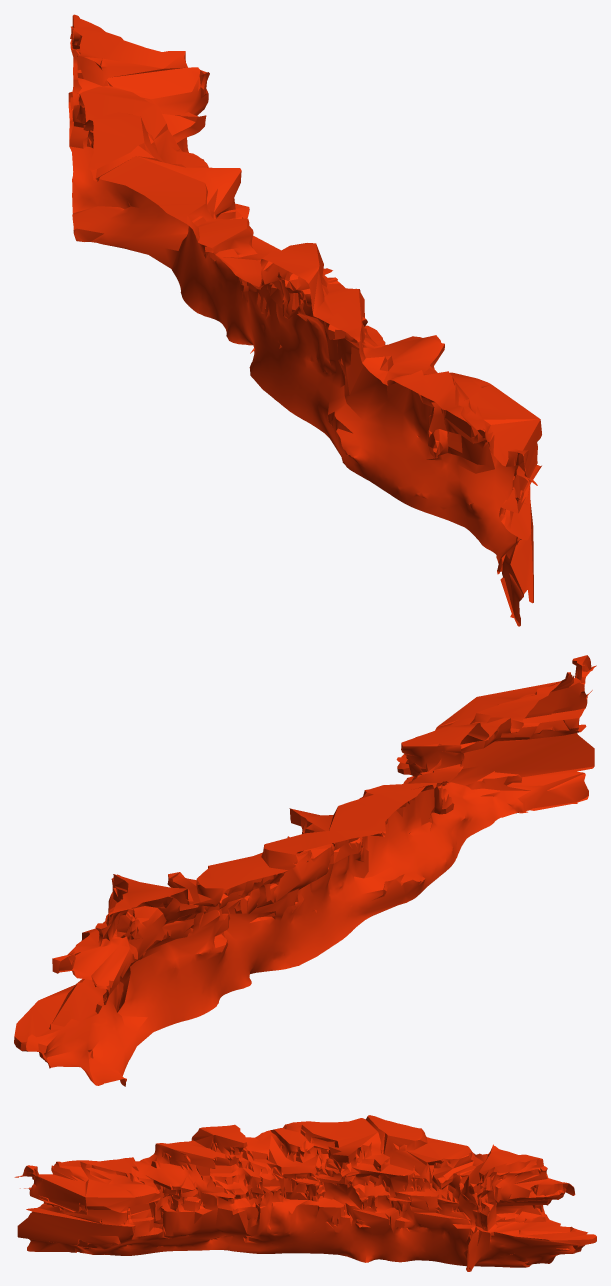
The model's file is canyon_rock_wall_06.fbx.
3 views of the same model, one above another, from view 1: azimuth 30°, elevation 25°; view 2: azimuth 150°, elevation 25°; view 3: azimuth 270°, elevation 25° (orthographic). The views are drawn at different scales.
Visible parts, largest first — view 1: Circle.015; view 2: Circle.015; view 3: Circle.015.
Part boxes in pixels (x1,y1,x2,y2): Circle.015: (68,14,541,626); Circle.015: (14,655,596,1086); Circle.015: (14,1115,596,1271).
Size of the model in its own units: 2820 by 2574 by 11839.
